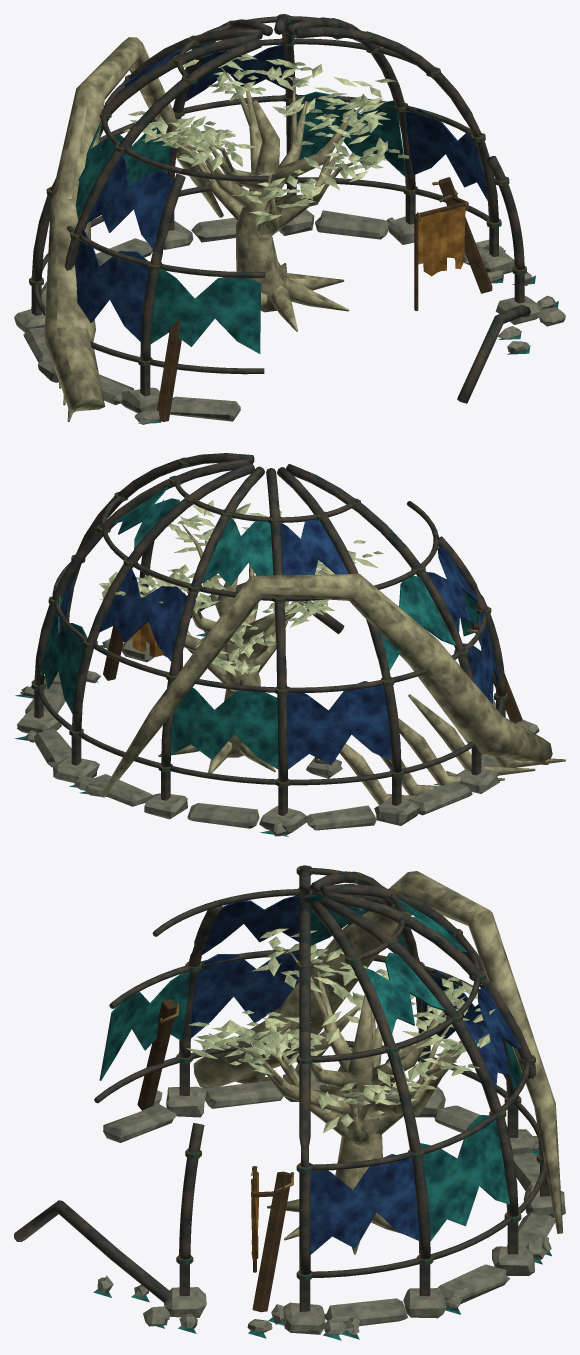
Rendered from greenhouse-assembled-B9kmSYSE.glb.
3 views of the same model, one above another, from view 1: azimuth 30°, elevation 25°; view 2: azimuth 150°, elevation 25°; view 3: azimuth 270°, elevation 25° (orthographic). The views are drawn at different scales.
Parts seen in each view (by area): view 1: greenhouse-assembled__LS_iron, greenhouse-assembled__LS_pale-root, greenhouse-assembled__LS_glass-blue, greenhouse-assembled__LS_glass-teal, greenhouse-assembled__LS_stone, greenhouse-assembled__LS_leaf, greenhouse-assembled__LS_wood, greenhouse-assembled__LS_cloth, greenhouse-assembled__LS_bronze; view 2: greenhouse-assembled__LS_iron, greenhouse-assembled__LS_pale-root, greenhouse-assembled__LS_glass-blue, greenhouse-assembled__LS_glass-teal, greenhouse-assembled__LS_stone, greenhouse-assembled__LS_leaf, greenhouse-assembled__LS_bronze, greenhouse-assembled__LS_wood, greenhouse-assembled__LS_cloth; view 3: greenhouse-assembled__LS_iron, greenhouse-assembled__LS_pale-root, greenhouse-assembled__LS_stone, greenhouse-assembled__LS_glass-blue, greenhouse-assembled__LS_glass-teal, greenhouse-assembled__LS_leaf, greenhouse-assembled__LS_wood, greenhouse-assembled__LS_bronze.
Boxes of the visible parts, x1,y1,x2,y2 form: greenhouse-assembled__LS_iron: [31, 14, 530, 403]; greenhouse-assembled__LS_pale-root: [44, 37, 372, 421]; greenhouse-assembled__LS_glass-blue: [75, 44, 487, 341]; greenhouse-assembled__LS_glass-teal: [75, 22, 562, 423]; greenhouse-assembled__LS_stone: [14, 209, 565, 424]; greenhouse-assembled__LS_leaf: [123, 53, 408, 224]; greenhouse-assembled__LS_wood: [157, 177, 492, 421]; greenhouse-assembled__LS_cloth: [418, 206, 465, 276]; greenhouse-assembled__LS_bronze: [29, 14, 526, 366]; greenhouse-assembled__LS_iron: [34, 453, 505, 815]; greenhouse-assembled__LS_pale-root: [101, 524, 565, 805]; greenhouse-assembled__LS_glass-blue: [59, 519, 500, 769]; greenhouse-assembled__LS_glass-teal: [14, 487, 479, 836]; greenhouse-assembled__LS_stone: [17, 631, 539, 836]; greenhouse-assembled__LS_leaf: [99, 499, 383, 675]; greenhouse-assembled__LS_bronze: [32, 457, 507, 787]; greenhouse-assembled__LS_wood: [103, 592, 522, 723]; greenhouse-assembled__LS_cloth: [132, 597, 167, 657]; greenhouse-assembled__LS_iron: [14, 865, 550, 1311]; greenhouse-assembled__LS_pale-root: [193, 871, 562, 1254]; greenhouse-assembled__LS_stone: [97, 1073, 565, 1336]; greenhouse-assembled__LS_glass-blue: [191, 895, 521, 1254]; greenhouse-assembled__LS_glass-teal: [93, 895, 551, 1340]; greenhouse-assembled__LS_leaf: [186, 928, 495, 1133]; greenhouse-assembled__LS_wood: [137, 999, 292, 1312]; greenhouse-assembled__LS_bronze: [176, 865, 543, 1280].
Size of the model in its own units: 12.84 by 7.04 by 11.03.
11 materials, 10 textured.
